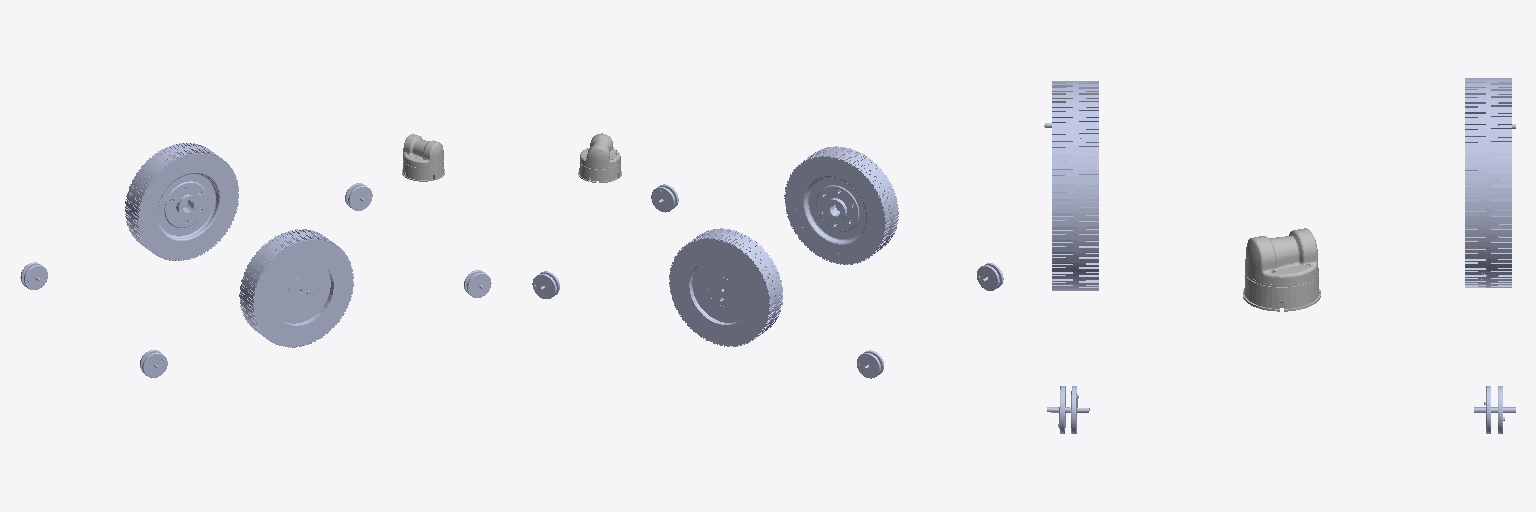
The robot description file, URDF, robot "agv_description":
<?xml version="1.0" encoding="utf-8"?>
<!-- This URDF was automatically created by SolidWorks to URDF Exporter! Originally created by [author] ([email redacted]) 
     Commit Version: 1.6.0-4-g7f85cfe  Build Version: 1.6.7995.38578
     For more information, please see http://wiki.ros.org/sw_urdf_exporter -->
<robot
  name="agv_description">
  <link
    name="base_link">
    <inertial>
      <origin
        xyz="-0.0338494907392993 0.0164457211791747 0.0506709005666891"
        rpy="0 0 0" />
      <mass
        value="15.8990354838314" />
      <inertia
        ixx="0.11596138353321"
        ixy="0.00154677738522838"
        ixz="0.000426728491902467"
        iyy="0.192873885662289"
        iyz="-4.06989711044256E-07"
        izz="0.278584237866939" />
    </inertial>
    <visual>
      <origin
        xyz="0 0 0"
        rpy="0 0 0" />
      <geometry>
        <mesh
          filename="package://agv_description/meshes/base_link.STL" />
      </geometry>
      <material
        name="">
        <color
          rgba="0.792156862745098 0.819607843137255 0.933333333333333 1" />
      </material>
    </visual>
    <collision>
      <origin
        xyz="0 0 0"
        rpy="0 0 0" />
      <geometry>
        <mesh
          filename="package://agv_description/meshes/base_link.STL" />
      </geometry>
    </collision>
  </link>
  <link
    name="lidar_Link">
    <inertial>
      <origin
        xyz="-5.69597392188759E-05 0.000131818454391162 0.0321889139445776"
        rpy="0 0 0" />
      <mass
        value="0.115203669518366" />
      <inertia
        ixx="4.84163852542535E-05"
        ixy="5.15274853406222E-06"
        ixz="-2.5653164359673E-08"
        iyy="3.84635053419228E-05"
        iyz="5.62616246516522E-08"
        izz="6.97501071303235E-05" />
    </inertial>
    <visual>
      <origin
        xyz="0 0 0"
        rpy="0 0 0" />
      <geometry>
        <mesh
          filename="package://agv_description/meshes/lidar_Link.STL" />
      </geometry>
      <material
        name="">
        <color
          rgba="0.752941176470588 0.752941176470588 0.752941176470588 1" />
      </material>
    </visual>
    <collision>
      <origin
        xyz="0 0 0"
        rpy="0 0 0" />
      <geometry>
        <mesh
          filename="package://agv_description/meshes/lidar_Link.STL" />
      </geometry>
    </collision>
  </link>
  <joint
    name="lidar_joint"
    type="fixed">
    <origin
      xyz="0.36251 -0.00042929 0.1021"
      rpy="0 0 0" />
    <parent
      link="base_link" />
    <child
      link="lidar_Link" />
    <axis
      xyz="0 0 0" />
  </joint>
  <link
    name="wheel_left_Link">
    <inertial>
      <origin
        xyz="1.25327155378652E-05 0.00232747086852683 -0.000591259458992605"
        rpy="0 0 0" />
      <mass
        value="1.18040778354055" />
      <inertia
        ixx="0.00340912176373557"
        ixy="3.56674807570793E-10"
        ixz="-2.67021961822549E-10"
        iyy="0.00648485231824381"
        iyz="-1.66035602867243E-08"
        izz="0.0034091341132575" />
    </inertial>
    <visual>
      <origin
        xyz="0 0 0"
        rpy="0 0 0" />
      <geometry>
        <mesh
          filename="package://agv_description/meshes/wheel_left_Link.STL" />
      </geometry>
      <material
        name="">
        <color
          rgba="0.792156862745098 0.819607843137255 0.933333333333333 1" />
      </material>
    </visual>
    <collision>
      <origin
        xyz="0 0 0"
        rpy="0 0 0" />
      <geometry>
        <mesh
          filename="package://agv_description/meshes/wheel_left_Link.STL" />
      </geometry>
    </collision>
  </link>
  <joint
    name="wheel_left_joint"
    type="continuous">
    <origin
      xyz="0.00014611 0.19392 0.051851"
      rpy="0 0 0" />
    <parent
      link="base_link" />
    <child
      link="wheel_left_Link" />
    <axis
      xyz="0 1 0" />
    <limit
      effort="10"
      velocity="10" />
    <dynamics
      damping="0.1"
      friction="0.1" />
  </joint>
  <link
    name="wheel_right_Link">
    <inertial>
      <origin
        xyz="0.000543739401965333 -0.00232747086852664 -0.000232577470086322"
        rpy="0 0 0" />
      <mass
        value="1.18040778354055" />
      <inertia
        ixx="0.00340913220352766"
        ixy="-1.52673476422736E-08"
        ixz="-4.47308430795828E-09"
        iyy="0.00648485231824382"
        iyz="6.53556187683385E-09"
        izz="0.00340912367346542" />
    </inertial>
    <visual>
      <origin
        xyz="0 0 0"
        rpy="0 0 0" />
      <geometry>
        <mesh
          filename="package://agv_description/meshes/wheel_right_Link.STL" />
      </geometry>
      <material
        name="">
        <color
          rgba="0.792156862745098 0.819607843137255 0.933333333333333 1" />
      </material>
    </visual>
    <collision>
      <origin
        xyz="0 0 0"
        rpy="0 0 0" />
      <geometry>
        <mesh
          filename="package://agv_description/meshes/wheel_right_Link.STL" />
      </geometry>
    </collision>
  </link>
  <joint
    name="wheel_right_joint"
    type="continuous">
    <origin
      xyz="-0.0013939 -0.19395 0.04778"
      rpy="0 0 0" />
    <parent
      link="base_link" />
    <child
      link="wheel_right_Link" />
    <axis
      xyz="0 1 0" />
    <limit
      effort="10"
      velocity="10" />
    <dynamics
      damping="0.1"
      friction="0.1" />
  </joint>
  <link
    name="caster_lefts_Link">
    <inertial>
      <origin
        xyz="-5.50298950297012E-08 2.88657986402541E-15 -2.03930245715189E-06"
        rpy="0 0 0" />
      <mass
        value="0.0171141580030019" />
      <inertia
        ixx="2.30115547348356E-06"
        ixy="-1.64292816896045E-09"
        ixz="2.14774916055487E-10"
        iyy="4.34191368646663E-06"
        iyz="4.43338690517193E-11"
        izz="2.30910882437253E-06" />
    </inertial>
    <visual>
      <origin
        xyz="0 0 0"
        rpy="0 0 0" />
      <geometry>
        <mesh
          filename="package://agv_description/meshes/caster_lefts_Link.STL" />
      </geometry>
      <material
        name="">
        <color
          rgba="0.792156862745098 0.819607843137255 0.933333333333333 1" />
      </material>
    </visual>
    <collision>
      <origin
        xyz="0 0 0"
        rpy="0 0 0" />
      <geometry>
        <mesh
          filename="package://agv_description/meshes/caster_lefts_Link.STL" />
      </geometry>
    </collision>
  </link>
  <joint
    name="caster_lefts_joint"
    type="continuous">
    <origin
      xyz="-0.28811 0.20242 -0.023862"
      rpy="0 0 0" />
    <parent
      link="base_link" />
    <child
      link="caster_lefts_Link" />
    <axis
      xyz="0 -1 0" />
    <limit
      effort="10"
      velocity="10" />
    <dynamics
      damping="0.1"
      friction="0.1" />
  </joint>
  <link
    name="caster_leftt_Link">
    <inertial>
      <origin
        xyz="-5.50298967505469E-08 -2.77555756156289E-16 -2.03930245549697E-06"
        rpy="0 0 0" />
      <mass
        value="0.0171141580030019" />
      <inertia
        ixx="2.30115547348356E-06"
        ixy="-1.64292816896136E-09"
        ixz="2.14774916055537E-10"
        iyy="4.34191368646663E-06"
        iyz="4.43338690588285E-11"
        izz="2.30910882437253E-06" />
    </inertial>
    <visual>
      <origin
        xyz="0 0 0"
        rpy="0 0 0" />
      <geometry>
        <mesh
          filename="package://agv_description/meshes/caster_leftt_Link.STL" />
      </geometry>
      <material
        name="">
        <color
          rgba="0.792156862745098 0.819607843137255 0.933333333333333 1" />
      </material>
    </visual>
    <collision>
      <origin
        xyz="0 0 0"
        rpy="0 0 0" />
      <geometry>
        <mesh
          filename="package://agv_description/meshes/caster_leftt_Link.STL" />
      </geometry>
    </collision>
  </link>
  <joint
    name="caster_leftt_joint"
    type="continuous">
    <origin
      xyz="0.35188 0.20242 -0.023862"
      rpy="0 0 0" />
    <parent
      link="base_link" />
    <child
      link="caster_leftt_Link" />
    <axis
      xyz="0 -1 0" />
    <limit
      effort="10"
      velocity="10" />
    <dynamics
      damping="0.1"
      friction="1" />
  </joint>
  <link
    name="caster_rightt_Link">
    <inertial>
      <origin
        xyz="1.94089568322786E-06 -5.69199781752516E-08 -2.54712318497469E-07"
        rpy="0 0 0" />
      <mass
        value="0.0171141580030019" />
      <inertia
        ixx="2.31071743460606E-06"
        ixy="5.9354384947313E-08"
        ixz="-1.07533087595994E-09"
        iyy="4.34017929113388E-06"
        iyz="-1.59906308282775E-09"
        izz="2.30128125858277E-06" />
    </inertial>
    <visual>
      <origin
        xyz="0 0 0"
        rpy="0 0 0" />
      <geometry>
        <mesh
          filename="package://agv_description/meshes/caster_rightt_Link.STL" />
      </geometry>
      <material
        name="">
        <color
          rgba="0.792156862745098 0.819607843137255 0.933333333333333 1" />
      </material>
    </visual>
    <collision>
      <origin
        xyz="0 0 0"
        rpy="0 0 0" />
      <geometry>
        <mesh
          filename="package://agv_description/meshes/caster_rightt_Link.STL" />
      </geometry>
    </collision>
  </link>
  <joint
    name="caster_rightt_joint"
    type="continuous">
    <origin
      xyz="0.35187 -0.20351 -0.023862"
      rpy="0 0 0" />
    <parent
      link="base_link" />
    <child
      link="caster_rightt_Link" />
    <axis
      xyz="-0.029314 -0.99957 0" />
    <limit
      effort="10"
      velocity="10" />
    <dynamics
      damping="0.1"
      friction="0.1" />
  </joint>
  <link
    name="caster_rights_Link">
    <inertial>
      <origin
        xyz="2.58994590667805E-05 -2.97837483601016E-06 6.20707121126024E-06"
        rpy="0 0 0" />
      <mass
        value="0.0171141580030019" />
      <inertia
        ixx="2.32889859222332E-06"
        ixy="2.31367184400118E-07"
        ixz="-1.35734566226682E-09"
        iyy="4.31532135805803E-06"
        iyz="6.83115568832027E-10"
        izz="2.30795803404135E-06" />
    </inertial>
    <visual>
      <origin
        xyz="0 0 0"
        rpy="0 0 0" />
      <geometry>
        <mesh
          filename="package://agv_description/meshes/caster_rights_Link.STL" />
      </geometry>
      <material
        name="">
        <color
          rgba="0.792156862745098 0.819607843137255 0.933333333333333 1" />
      </material>
    </visual>
    <collision>
      <origin
        xyz="0 0 0"
        rpy="0 0 0" />
      <geometry>
        <mesh
          filename="package://agv_description/meshes/caster_rights_Link.STL" />
      </geometry>
    </collision>
  </link>
  <joint
    name="caster_rights_joint"
    type="continuous">
    <origin
      xyz="-0.28832 -0.20621 -0.023862"
      rpy="0 0 0" />
    <parent
      link="base_link" />
    <child
      link="caster_rights_Link" />
    <axis
      xyz="-0.11424 -0.99345 0" />
    <limit
      effort="10"
      velocity="10" />
    <dynamics
      damping="0.1" 
      friction="0.1" />
  </joint>
<gazebo>
    <plugin name="diff_drive_controller" filename="libgazebo_ros_diff_drive.so">
      <ros>
        <remapping>cmd_vel:=cmd_vel</remapping>
        <remapping>odom:=odom</remapping>
      </ros>
      <left_joint>wheel_left_joint</left_joint>
      <right_joint>wheel_right_joint</right_joint>
      <wheel_separation>0.387</wheel_separation>
      <wheel_diameter>0.1</wheel_diameter>
      <publish_odom>true</publish_odom>
      <publish_odom_tf>true</publish_odom_tf>
      <publish_wheel_tf>true</publish_wheel_tf>
      <odometry_frame>odom</odometry_frame>
      <robot_base_frame>base_link</robot_base_frame>
    </plugin>
  </gazebo>

  <gazebo reference="wheel_left_Link">
    <mu1>1.0</mu1>
    <mu2>1.0</mu2>
    <material>Gazebo/Black</material>
  </gazebo>
  
  <gazebo reference="wheel_right_Link">
    <mu1>1.0</mu1>
    <mu2>1.0</mu2>
    <material>Gazebo/Black</material>
  </gazebo>

  <gazebo reference="caster_lefts_Link"><mu1>0.1</mu1><mu2>0.1</mu2></gazebo>
  <gazebo reference="caster_leftt_Link"><mu1>0.1</mu1><mu2>0.1</mu2></gazebo>
  <gazebo reference="caster_rights_Link"><mu1>0.1</mu1><mu2>0.1</mu2></gazebo>
  <gazebo reference="caster_rightt_Link"><mu1>0.1</mu1><mu2>0.1</mu2></gazebo>
  
</robot>

--- Facts derived from the render (not from the file) ---
The picture shows the robot from 3 angles, left to right: view 1: azimuth 30°, elevation 25°; view 2: azimuth 150°, elevation 25°; view 3: azimuth 270°, elevation 25°; orthographic projection.
Robot: agv_description — 8 links, 7 joints (6 continuous, 1 fixed); root link base_link; default pose: every joint at zero.
Links seen in each view (by area): view 1: wheel_left_Link, wheel_right_Link, lidar_Link, caster_rights_Link, caster_lefts_Link, caster_rightt_Link, caster_leftt_Link; view 2: wheel_right_Link, wheel_left_Link, lidar_Link, caster_lefts_Link, caster_leftt_Link, caster_rightt_Link, caster_rights_Link; view 3: wheel_left_Link, wheel_right_Link, lidar_Link, caster_rightt_Link, caster_leftt_Link.
Link boxes in pixels (x1,y1,x2,y2): wheel_left_Link: (125,143,238,260); wheel_right_Link: (239,229,353,347); lidar_Link: (402,134,444,181); caster_rights_Link: (140,350,167,377); caster_lefts_Link: (20,262,47,289); caster_rightt_Link: (464,270,491,297); caster_leftt_Link: (345,183,372,210); wheel_right_Link: (784,146,898,264); wheel_left_Link: (669,228,782,346); lidar_Link: (578,133,621,182); caster_lefts_Link: (857,350,883,378); caster_leftt_Link: (532,271,559,298); caster_rightt_Link: (651,184,678,212); caster_rights_Link: (977,263,1003,290); wheel_left_Link: (1465,78,1511,287); wheel_right_Link: (1052,81,1098,290); lidar_Link: (1243,228,1320,311); caster_rightt_Link: (1047,386,1089,433); caster_leftt_Link: (1474,386,1515,433).
Bounding box of the posed robot: 0.7119 × 0.4488 × 0.218 m (x, y, z).
7 mesh visuals loaded from 8 distinct referenced files (7 binary STL); not drawn: 1 (reference not matched to a file when rendering).